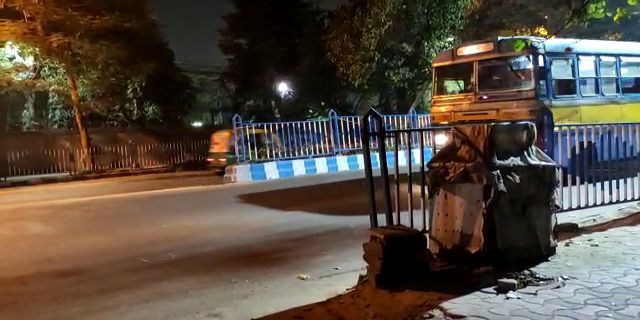Autorickshaw: (204, 127, 239, 178)
Bus: (413, 38, 635, 175)
